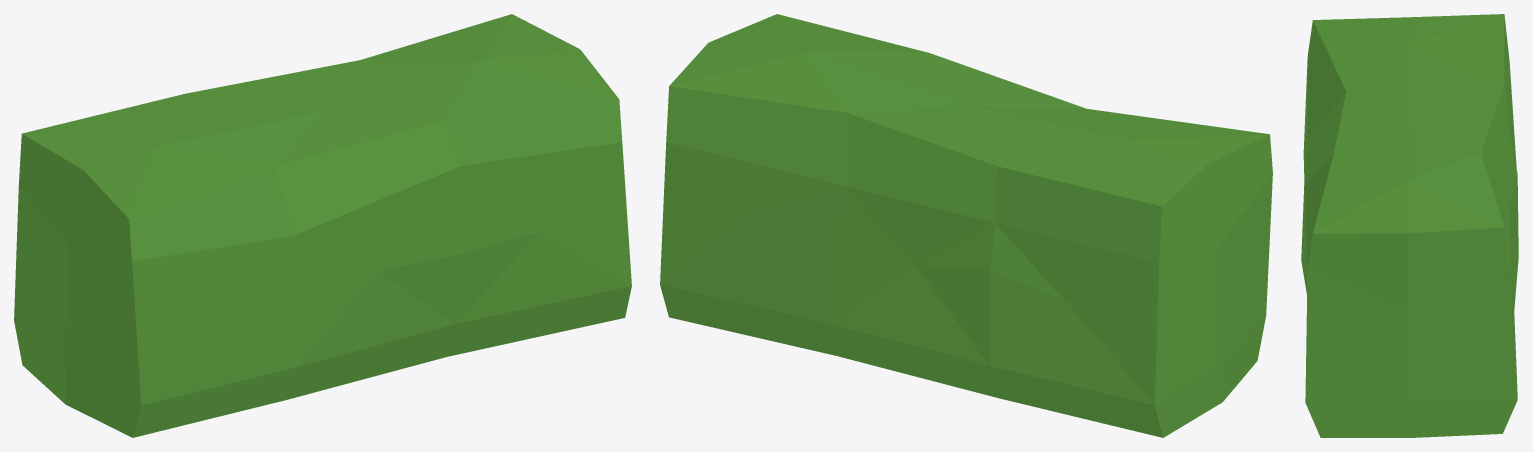
Rendered from fence-shrub.glb.
3 renders of one model, left to right at view 1: azimuth 30°, elevation 25°; view 2: azimuth 150°, elevation 25°; view 3: azimuth 270°, elevation 25°, orthographic. The views are drawn at different scales.
Visible parts, largest first — view 1: fence-shrub; view 2: fence-shrub; view 3: fence-shrub.
Boxes of the visible parts, bbox=[...] form: fence-shrub: bbox=[14, 14, 631, 437]; fence-shrub: bbox=[660, 14, 1272, 437]; fence-shrub: bbox=[1301, 14, 1518, 437].
Size of the model in its own units: 2.09 by 0.9526 by 0.8613.
Materials: 1 (1 with a texture image).
